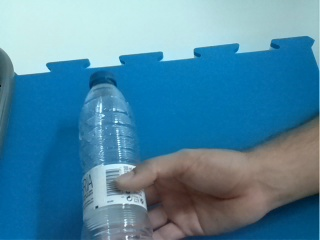botella plastico: (78, 70, 153, 240)
